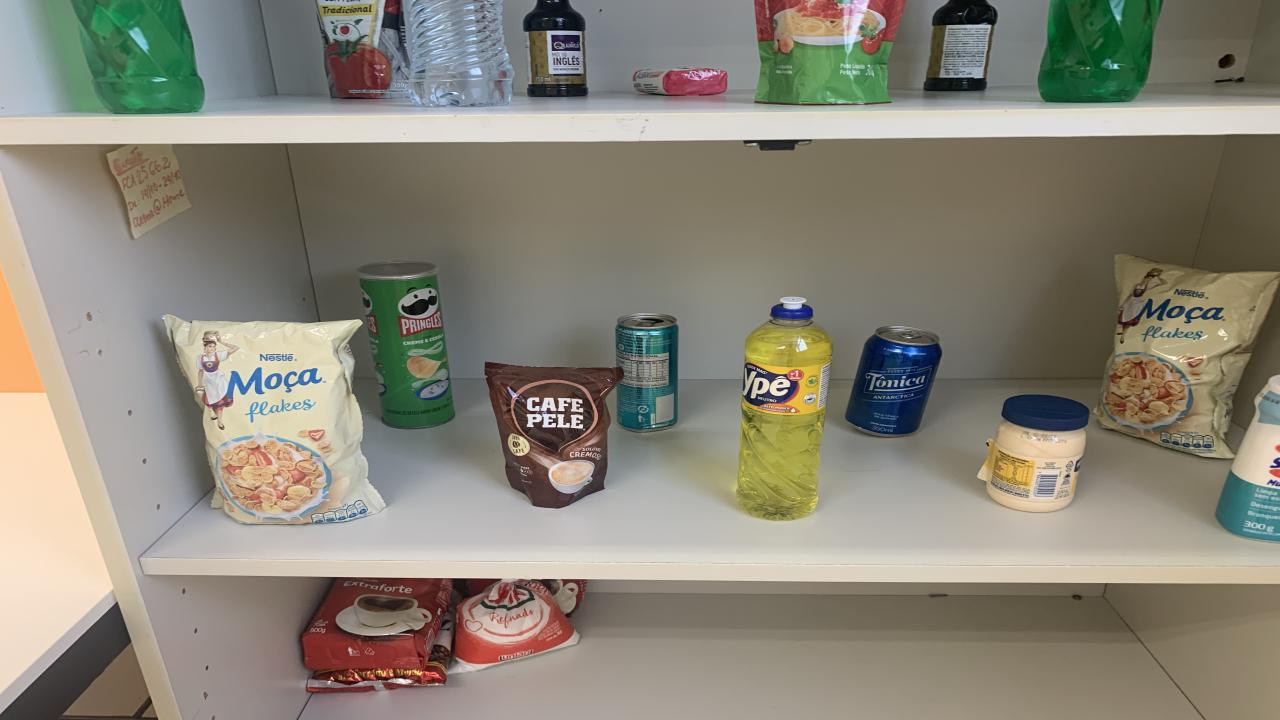Cleaner-Cleanup_Items: (1215, 375, 1280, 542)
Coffee-Pantry_Items: (485, 364, 620, 508)
Detergent-Cleanup_Items: (738, 296, 832, 519), (72, 0, 205, 114), (1038, 0, 1162, 103)
English_Sauce-Pantry_Items: (922, 0, 998, 90), (522, 0, 588, 98)
Flakes-Snacks: (162, 315, 382, 523), (1095, 255, 1280, 458)
Mayonnaise-Pantry_Items: (980, 396, 1088, 512)
Pringles-Snacks: (360, 262, 455, 428)
Soap-Cleanup_Items: (632, 68, 728, 96)
Tea-Drinks: (615, 313, 678, 431)
Tomato_Sauce-Pantry_Items: (755, 0, 905, 105), (315, 0, 408, 99)
Tonic-Drinks: (845, 326, 942, 437)
Water_Bottle-Drinks: (402, 0, 515, 107)
